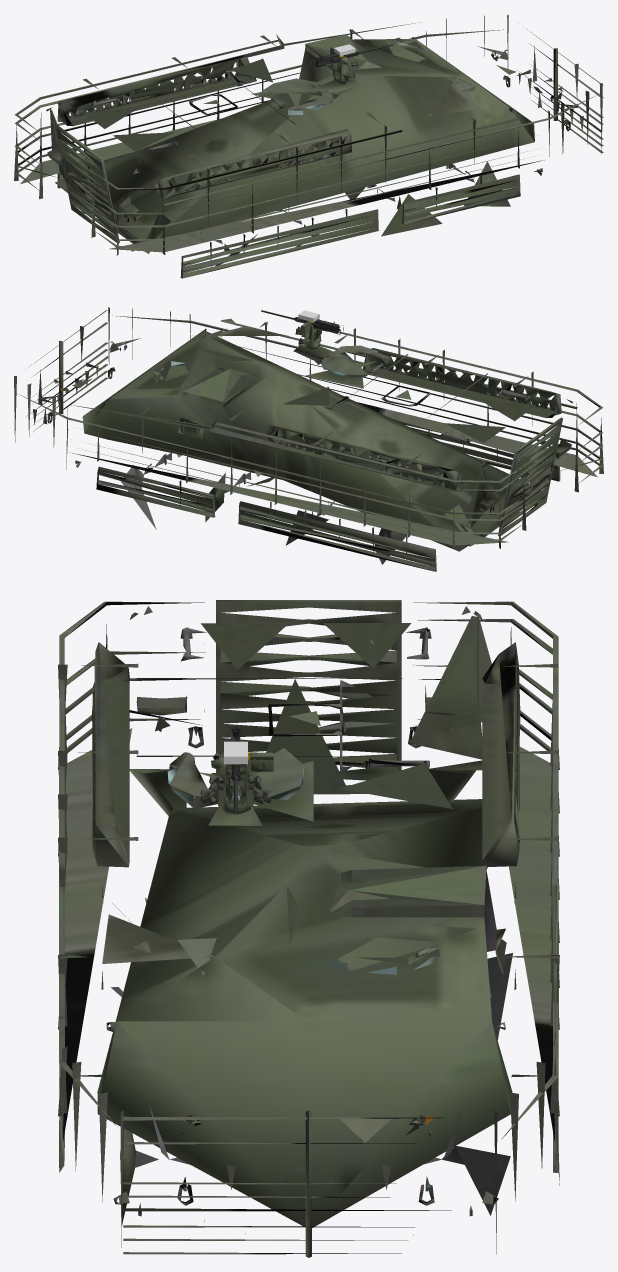
Rendered from stryker_lo.glb.
The picture shows the model from 3 angles, top to bottom: view 1: azimuth 30°, elevation 25°; view 2: azimuth 150°, elevation 25°; view 3: azimuth 270°, elevation 25°; orthographic projection. The views are drawn at different scales.
Visible parts, largest first — view 1: g_stryker_hull, g_stryker_turret; view 2: g_stryker_hull, g_stryker_turret; view 3: g_stryker_hull, g_stryker_turret.
Boxes of the visible parts, x1,y1,x2,y2 form: g_stryker_hull: (14, 14, 603, 278); g_stryker_turret: (310, 44, 392, 84); g_stryker_hull: (14, 307, 603, 571); g_stryker_turret: (261, 310, 343, 350); g_stryker_hull: (58, 600, 559, 1257); g_stryker_turret: (200, 726, 273, 814).
Bounding box in the file's own units: 6.97 × 2.57 × 3.07.
3 materials, 2 textured.
